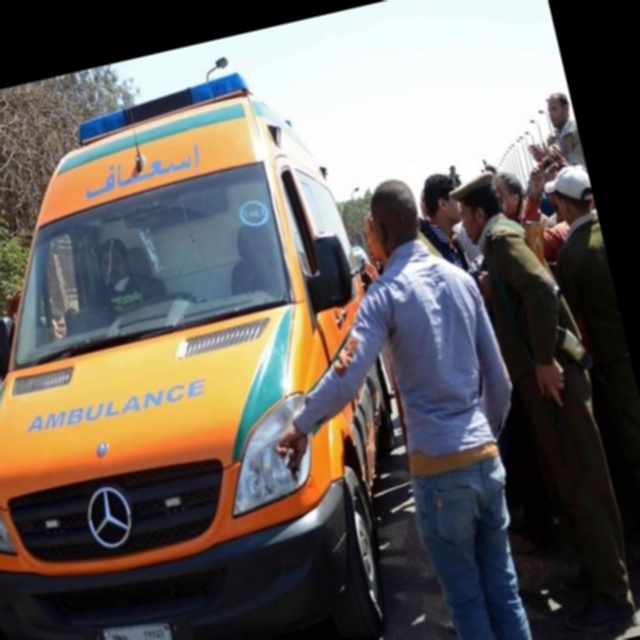Ambulance: (0, 36, 449, 640)
person: (223, 163, 574, 640)
